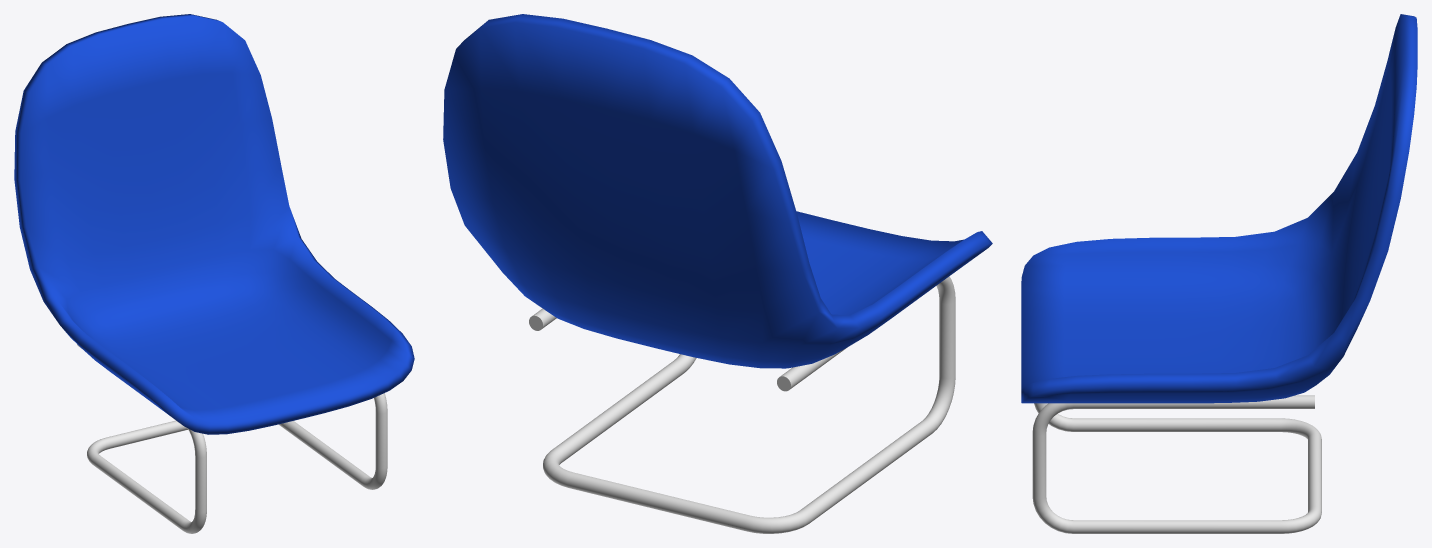
Rendered from classroom chair.fbx.
The picture shows the model from 3 angles, left to right: view 1: azimuth 30°, elevation 25°; view 2: azimuth 150°, elevation 25°; view 3: azimuth 270°, elevation 25°; orthographic projection. The views are drawn at different scales.
Parts seen in each view (by area): view 1: chai body, chair legs; view 2: chai body, chair legs; view 3: chai body, chair legs.
Boxes of the visible parts, box(x1,y1,x2,y2) form: chai body: box(14, 14, 414, 434); chair legs: box(77, 344, 387, 533); chai body: box(443, 14, 992, 368); chair legs: box(529, 276, 955, 533); chai body: box(1021, 14, 1417, 403); chair legs: box(1032, 395, 1321, 533).
Bounding box in the file's own units: 200 × 280 × 230.
